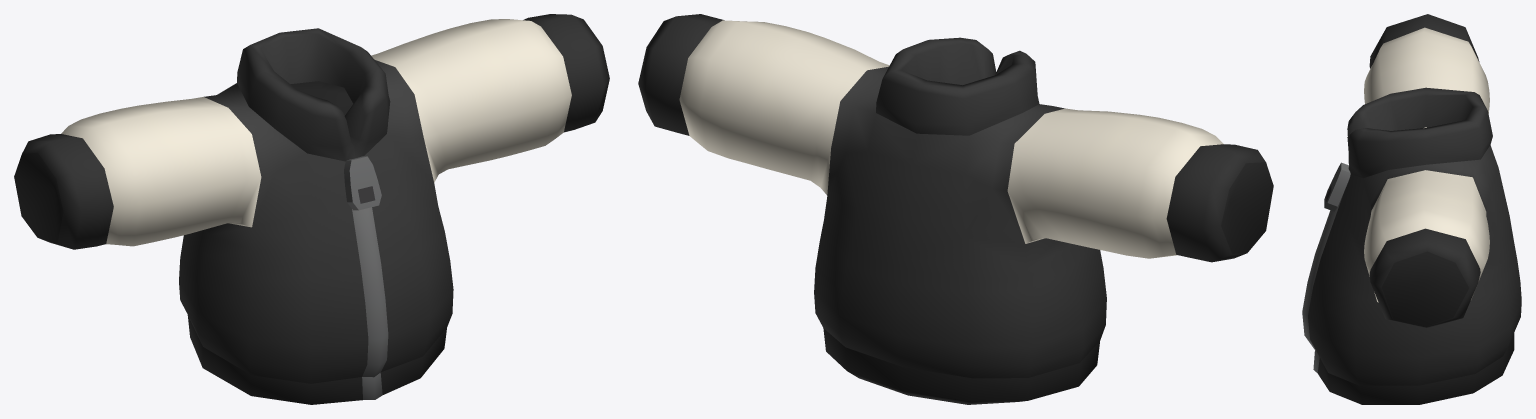
The model's file is Top_34.fbx.
3 renders of one model, left to right at view 1: azimuth 30°, elevation 25°; view 2: azimuth 150°, elevation 25°; view 3: azimuth 270°, elevation 25°, orthographic. The views are drawn at different scales.
Parts seen in each view (by area): view 1: Top_34; view 2: Top_34; view 3: Top_34.
Part boxes in pixels (x1,y1,x2,y2): Top_34: [14, 14, 609, 404]; Top_34: [638, 14, 1273, 404]; Top_34: [1302, 14, 1521, 404].
Bounding box in the file's own units: 101 × 53.08 × 39.31.
